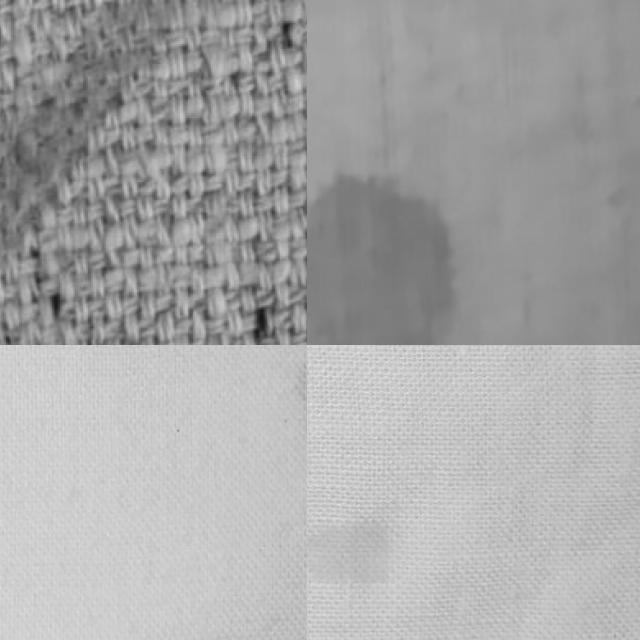Hole: (307, 157, 507, 345)
